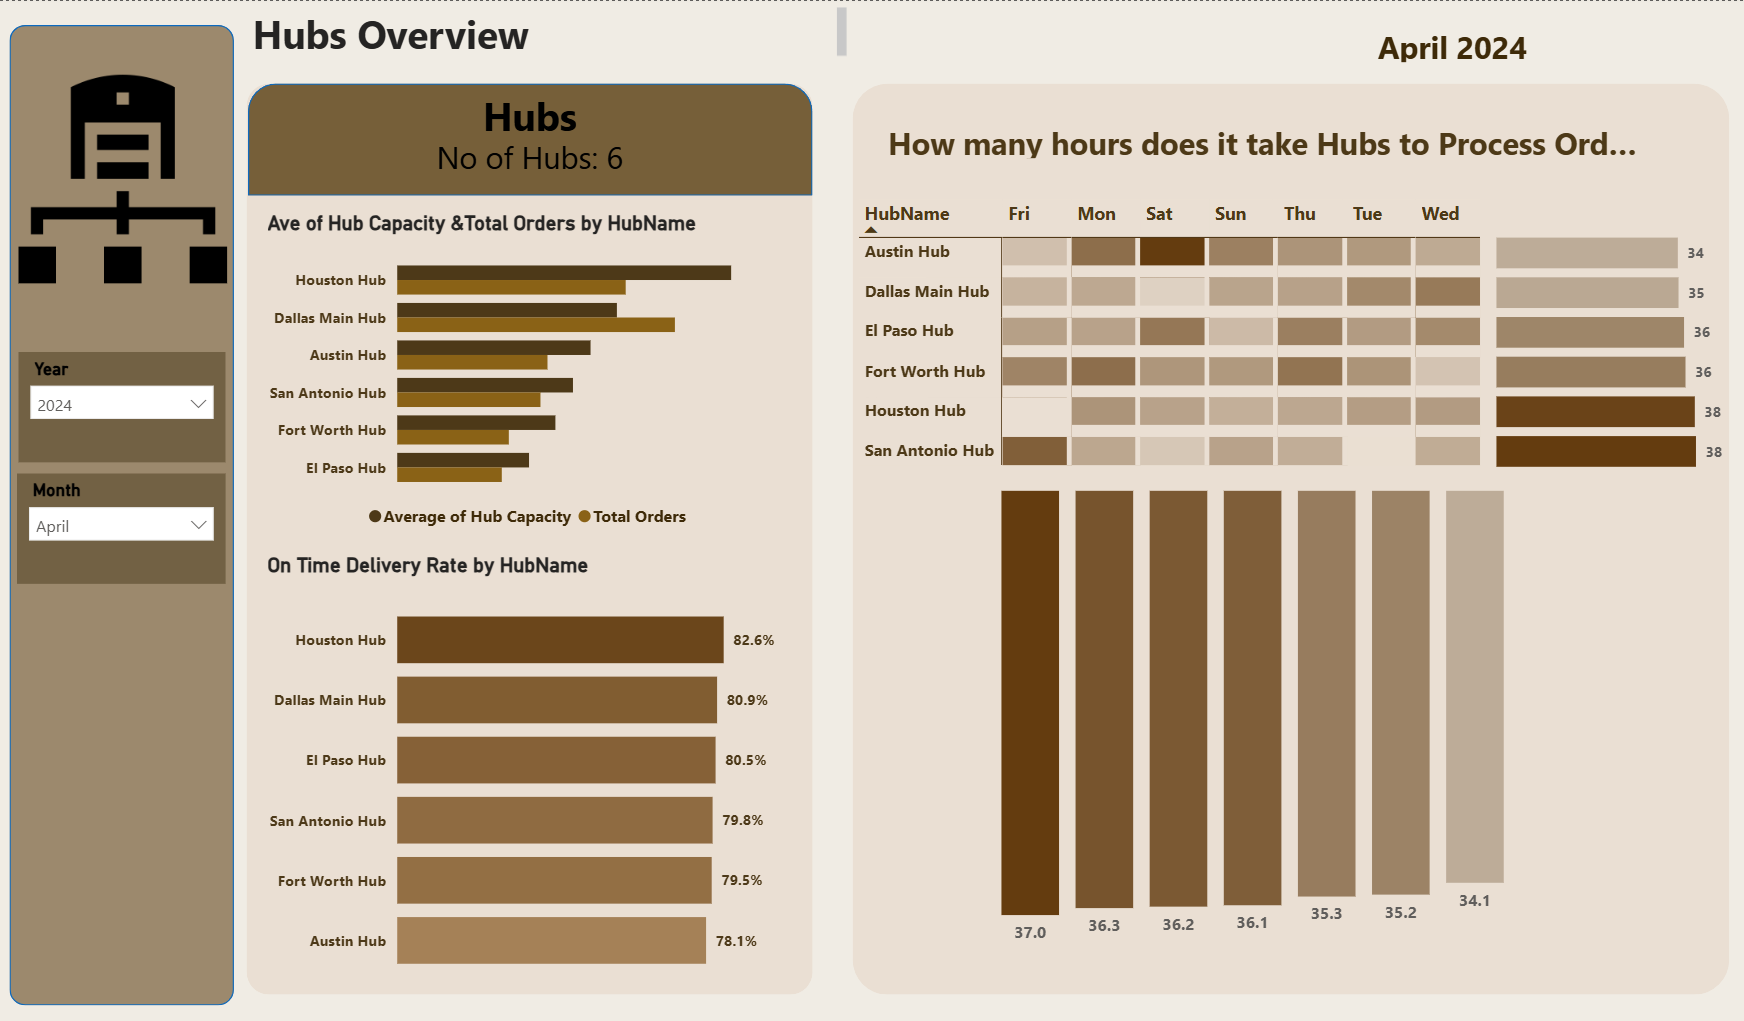

The page's visual inventory and layout, read from the dashboard file:
{"tool":"powerbi","page":{"name":"Hubs Overview","canvas":[1450,850],"ordinal":2},"visuals":[{"type":"shape","box":[11.4,20,185.7,811.4],"z":0},{"type":"textbox","box":[207.1,0,501.4,51.4],"z":1000},{"type":"slicer","fields":{"Values":["Date Table.Year"]},"box":[18.6,290,171.4,91.4],"z":2000},{"type":"slicer","fields":{"Values":["Date Table.Month"]},"box":[17.1,391.4,172.9,91.4],"z":3000},{"type":"cardVisual","fields":{"Data":["0rders.Year Month Title"]},"box":[1055.7,4.3,300,64.3],"z":4000},{"type":"shape","box":[708.6,68.6,725.7,754.3],"z":5000},{"type":"shape","box":[207.1,68.6,468.6,754.3],"z":6000},{"type":"shape","box":[208.6,68.6,467.1,92.9],"z":7000},{"type":"shape","box":[291.4,71.4,300,44.3],"z":8000},{"type":"cardVisual","fields":{"Data":["0rders.No of hubs"]},"box":[291.4,94.3,300,80],"z":9000},{"type":"clusteredBarChart","title":"Ave of Hub Capacity &Total Orders by HubName","fields":{"Category":["Hubs.HubName"],"Y":["Avg(Hubs.Hub Capacity)","0rders.Total Orders"]},"box":[220,174.3,444.3,271.4],"z":10000},{"type":"barChart","fields":{"Category":["Hubs.HubName"],"Y":["0rders.On Time Delivery Rate"]},"box":[220,457.1,444.3,365.7],"z":11000},{"type":"pivotTable","fields":{"Rows":["Hubs.HubName"],"Columns":["Date Table.Day"],"Values":["0rders.Avg Deliverey Time"]},"box":[708.6,158.6,528.6,254.3],"z":12000},{"type":"columnChart","fields":{"Category":["Date Table.Day"],"Y":["0rders.Avg Deliverey Time"]},"box":[827.1,391.4,427.1,397.1],"z":13000},{"type":"barChart","fields":{"Category":["Hubs.HubName"],"Y":["0rders.Avg Deliverey Time"]},"box":[1237.1,182.9,197.1,208.6],"z":14000},{"type":"cardVisual","fields":{"Data":["Hubs.Hub Title"]},"box":[721.4,82.9,667.1,64.3],"z":15000},{"type":"image","box":[18.6,22.9,172.9,250],"z":16000}]}

Visuals, with their boxes in screenshot pixels (x1, y1, x2, y2), scaled from the page's 1450x850 canvas onto the 1744x1021 screenshot:
shape: box=[14, 24, 237, 999]
textbox: box=[249, 0, 852, 62]
slicer - Date Table.Year: box=[22, 348, 229, 458]
slicer - Date Table.Month: box=[21, 470, 229, 580]
cardVisual - 0rders.Year Month Title: box=[1270, 5, 1631, 82]
shape: box=[852, 82, 1725, 988]
shape: box=[249, 82, 813, 988]
shape: box=[251, 82, 813, 194]
shape: box=[350, 86, 711, 139]
cardVisual - 0rders.No of hubs: box=[350, 113, 711, 209]
"Ave of Hub Capacity &Total Orders by HubName" clusteredBarChart: box=[265, 209, 799, 535]
barChart - Hubs.HubName x 0rders.On Time Delivery Rate: box=[265, 549, 799, 988]
pivotTable - Hubs.HubName x Date Table.Day: box=[852, 191, 1488, 496]
columnChart - Date Table.Day x 0rders.Avg Deliverey Time: box=[995, 470, 1508, 947]
barChart - Hubs.HubName x 0rders.Avg Deliverey Time: box=[1488, 220, 1725, 470]
cardVisual - Hubs.Hub Title: box=[868, 100, 1670, 177]
image: box=[22, 28, 230, 328]
